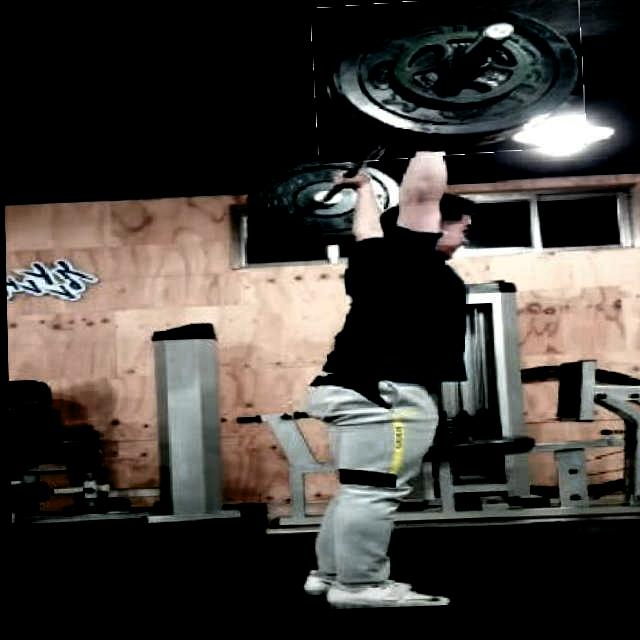barbell: (312, 1, 585, 166)
